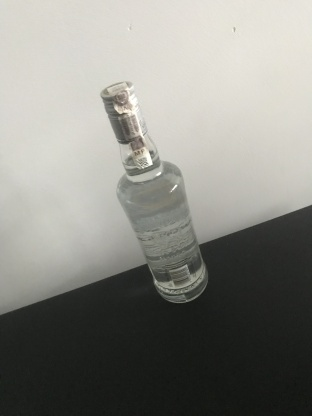nakretka: (98, 78, 148, 144)
